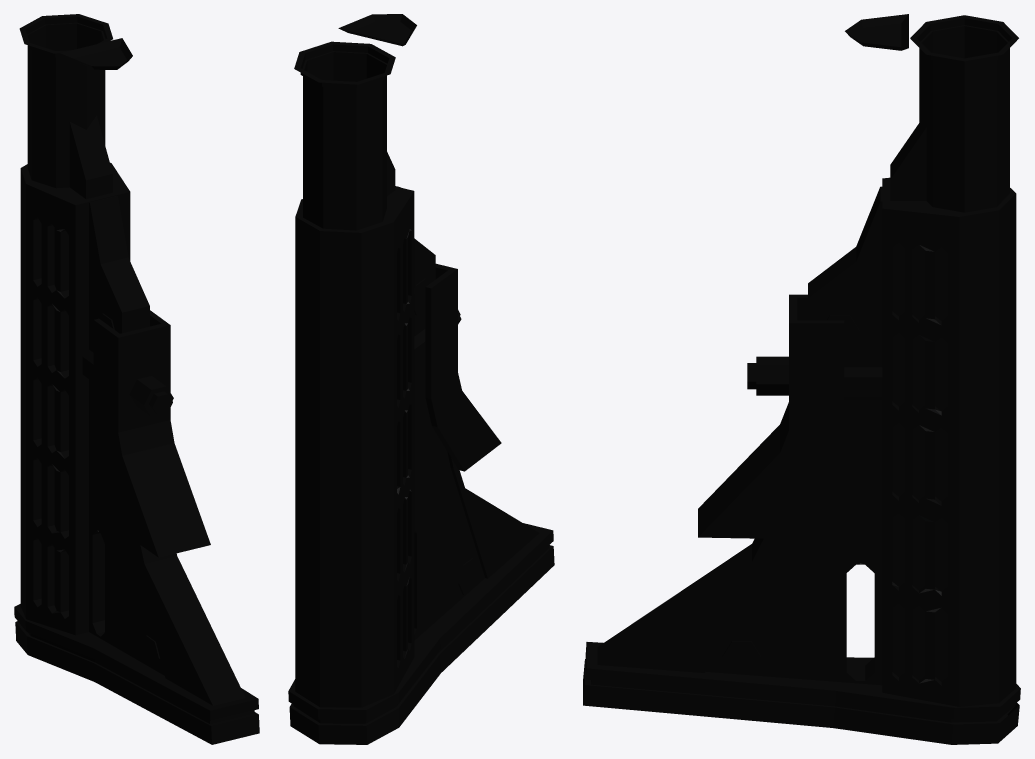
The model's file is Stock_SR25.fbx.
3 renders of one model, left to right at view 1: azimuth 30°, elevation 25°; view 2: azimuth 150°, elevation 25°; view 3: azimuth 270°, elevation 25°, orthographic. The views are drawn at different scales.
Visible parts, largest first — view 1: asset_SR25.002; view 2: asset_SR25.002; view 3: asset_SR25.002.
Part boxes in pixels (left/top/right/bottom): asset_SR25.002: left=14, top=14, right=259, bottom=744; asset_SR25.002: left=288, top=14, right=554, bottom=744; asset_SR25.002: left=583, top=14, right=1020, bottom=744.
Size of the model in its own units: 0.0248 by 0.1623 by 0.0927.
